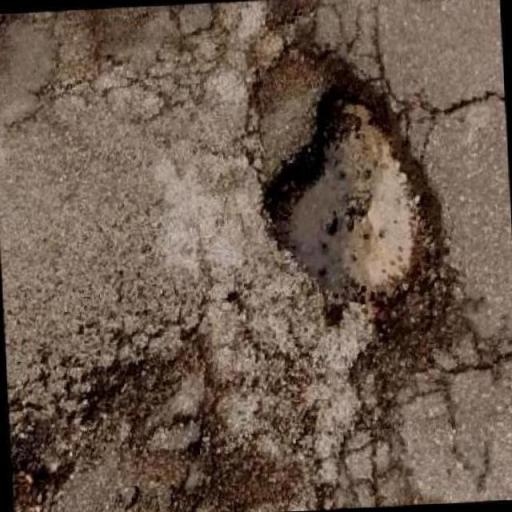pothole: (242, 40, 460, 402), (9, 323, 301, 512)
